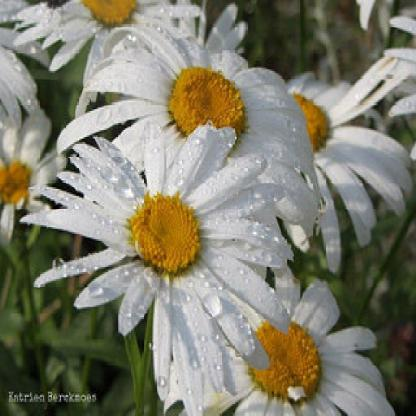ASTER: (4, 10, 403, 410)
